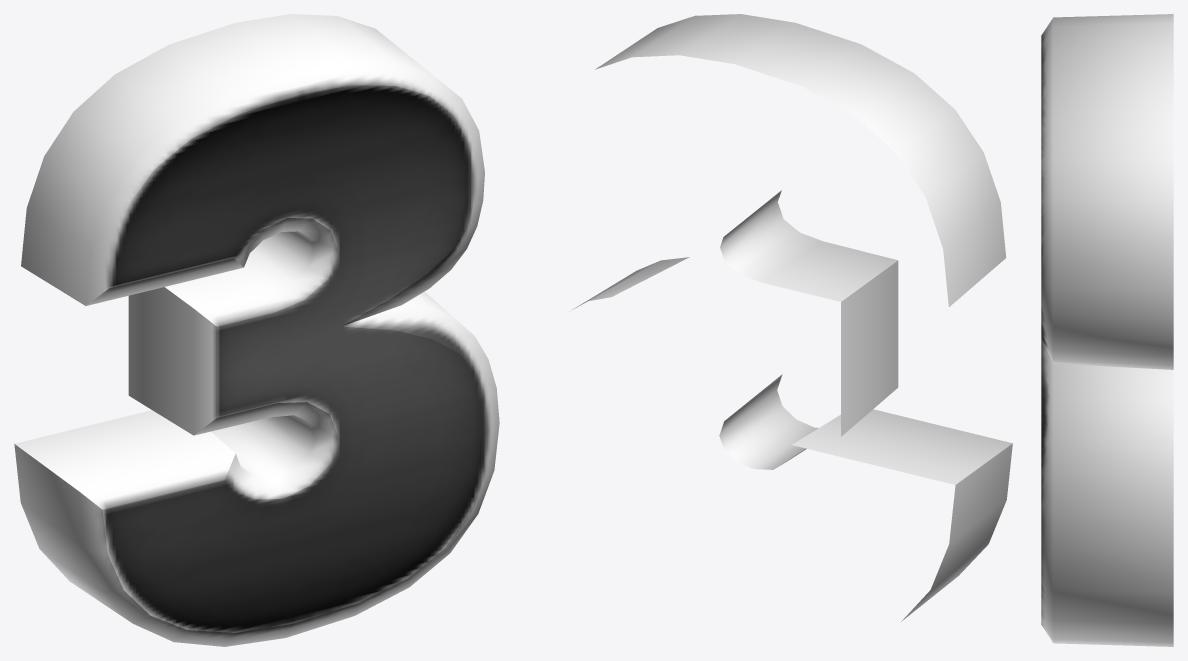
Rendered from bbl_score_model__score_3a.glb.
3 renders of one model, left to right at view 1: azimuth 30°, elevation 25°; view 2: azimuth 150°, elevation 25°; view 3: azimuth 270°, elevation 25°, orthographic.
Parts seen in each view (by area): view 1: polygon1, polygon0; view 2: polygon0; view 3: polygon0.
Part boxes in pixels (x1,y1,x2,y2): polygon1: [102, 85, 487, 632]; polygon0: [14, 14, 499, 646]; polygon0: [571, 14, 1012, 621]; polygon0: [1041, 14, 1173, 646].
Bounding box in the file's own units: 4.04 × 5.16 × 1.1.
Materials: 2 (2 with a texture image).
